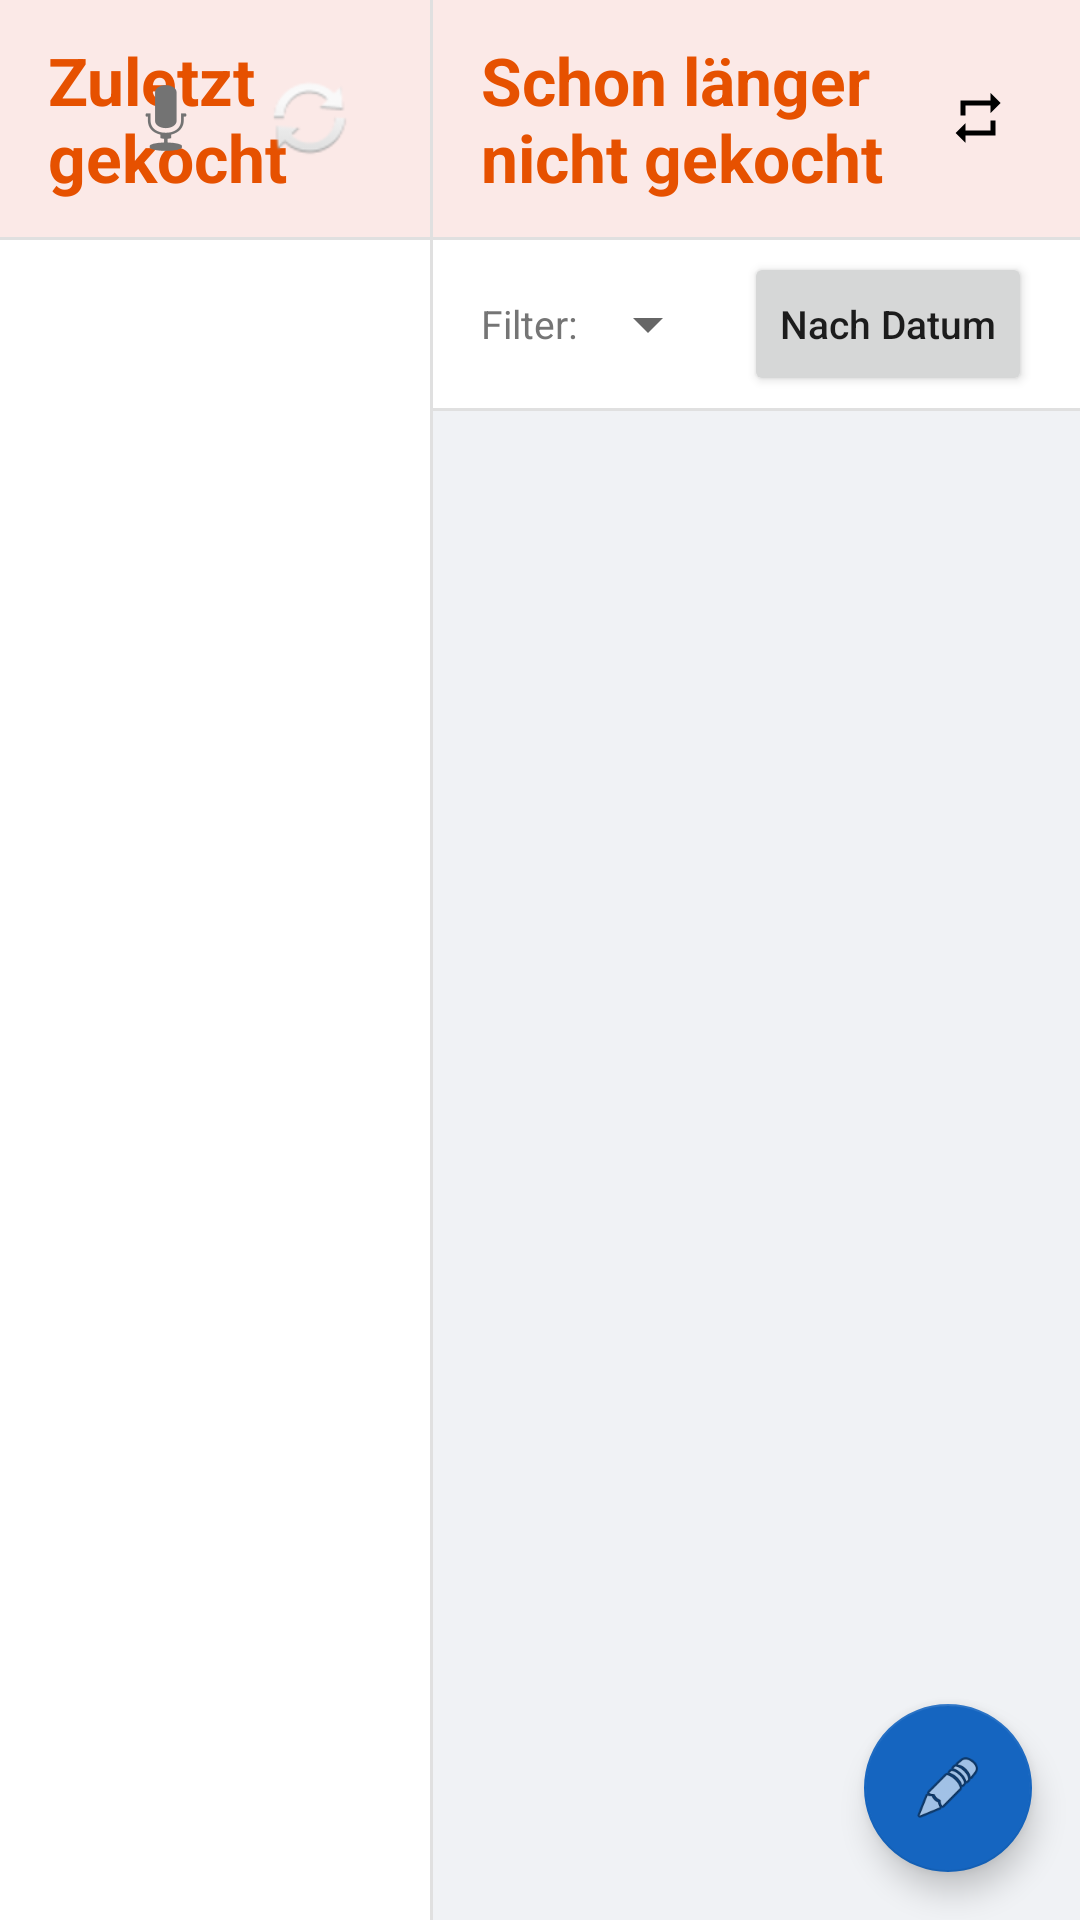

Point at icon controls on the screen. Image size 1080×1920, points as point (x, y).
Auto-Wechsel ein/aus: point (978, 118)
Gerichte verwalten: point (948, 1788)
